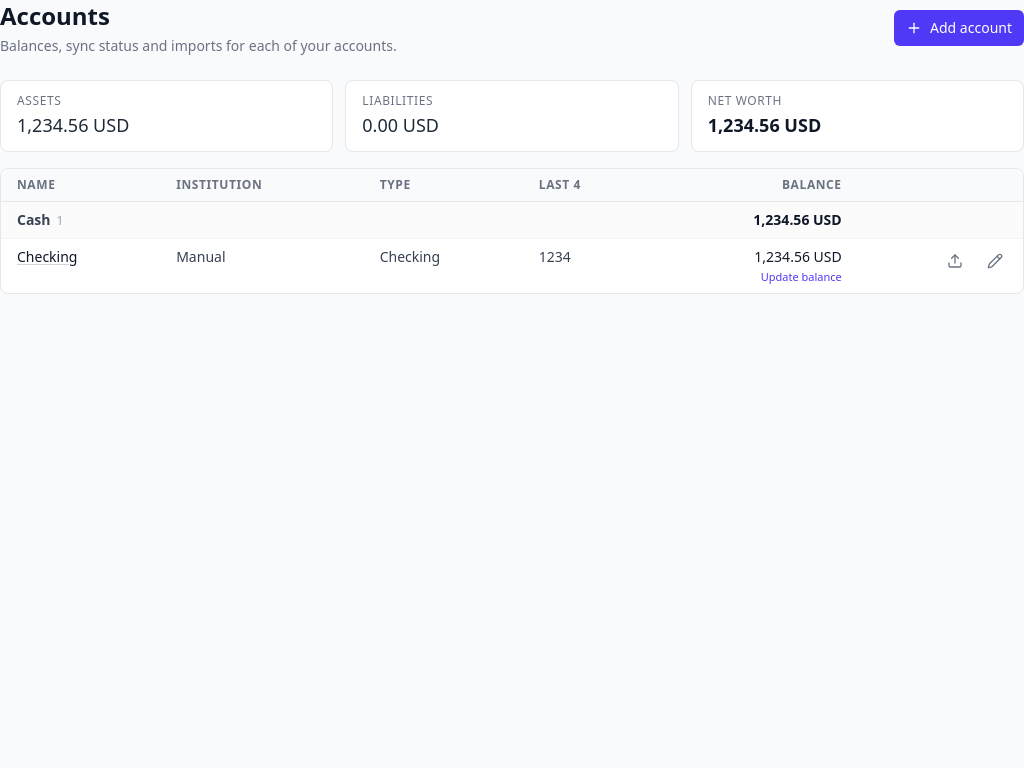
Test: Update balance (#504) › prefills the balance, validates, saves and explains the adjustment
Click the button with aria-label "Update balance for Checking" at coordinates (754, 277), box [667,269,842,285]
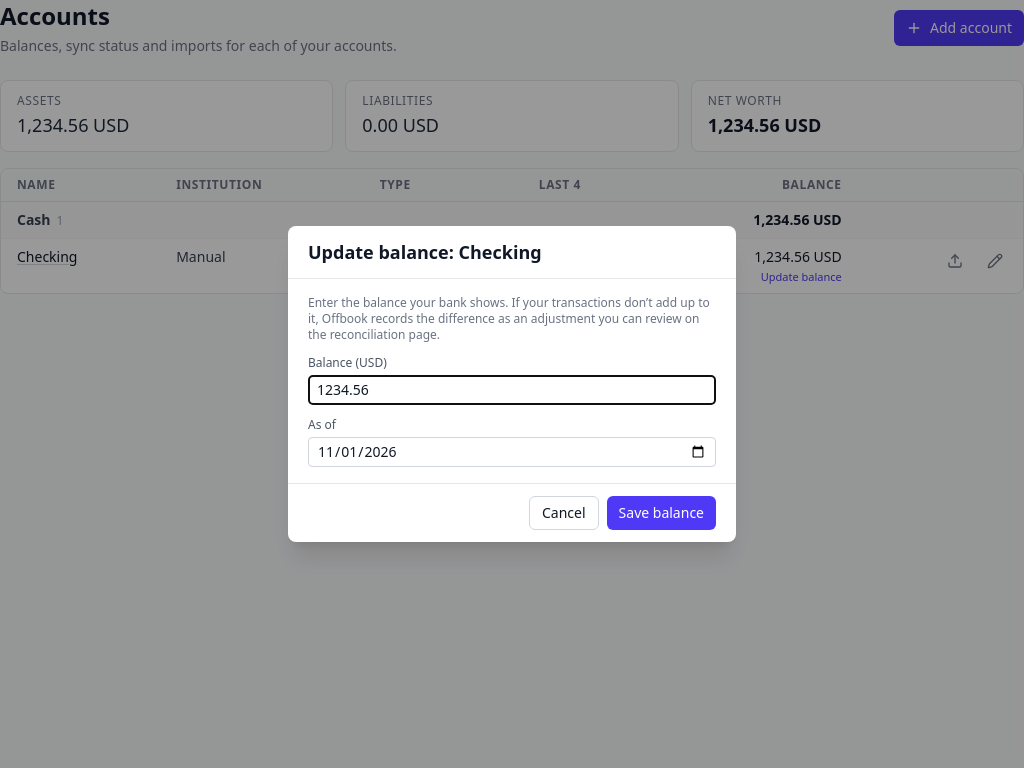
Result: the field labelled "Balance (USD)" holds "1234.56"
Replace the text in the field labelled "Balance (USD)" with "abc" at coordinates (512, 390), box [308,375,716,405]
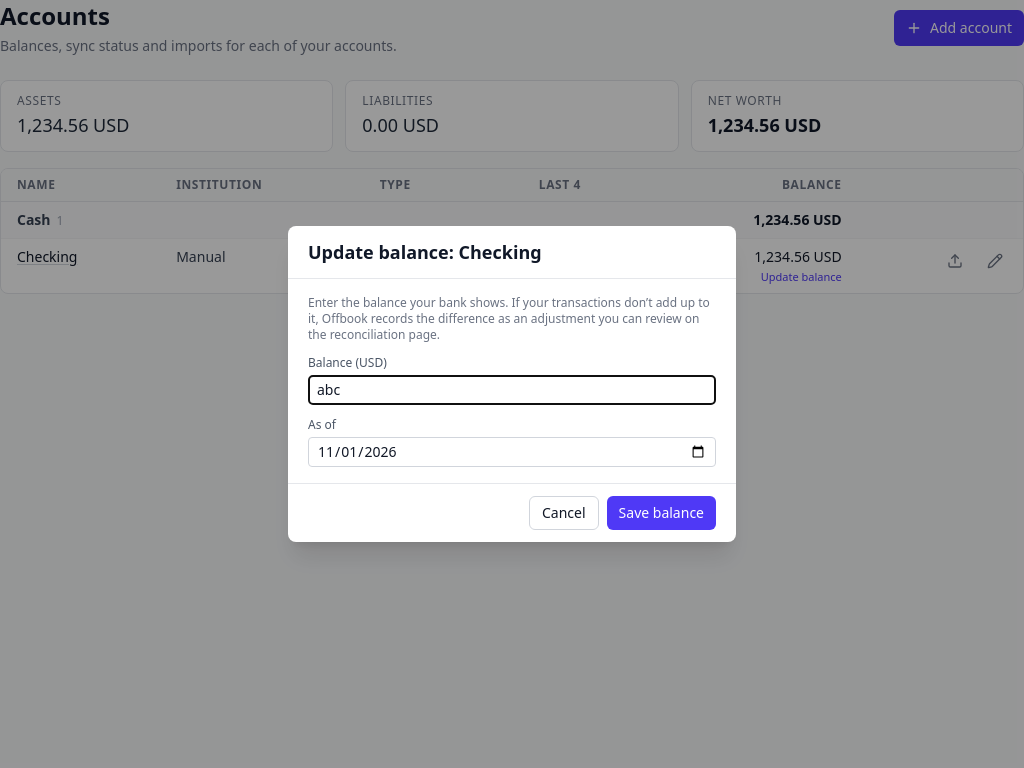
Click the button "Save balance" at coordinates (661, 513), box [607,496,716,530]
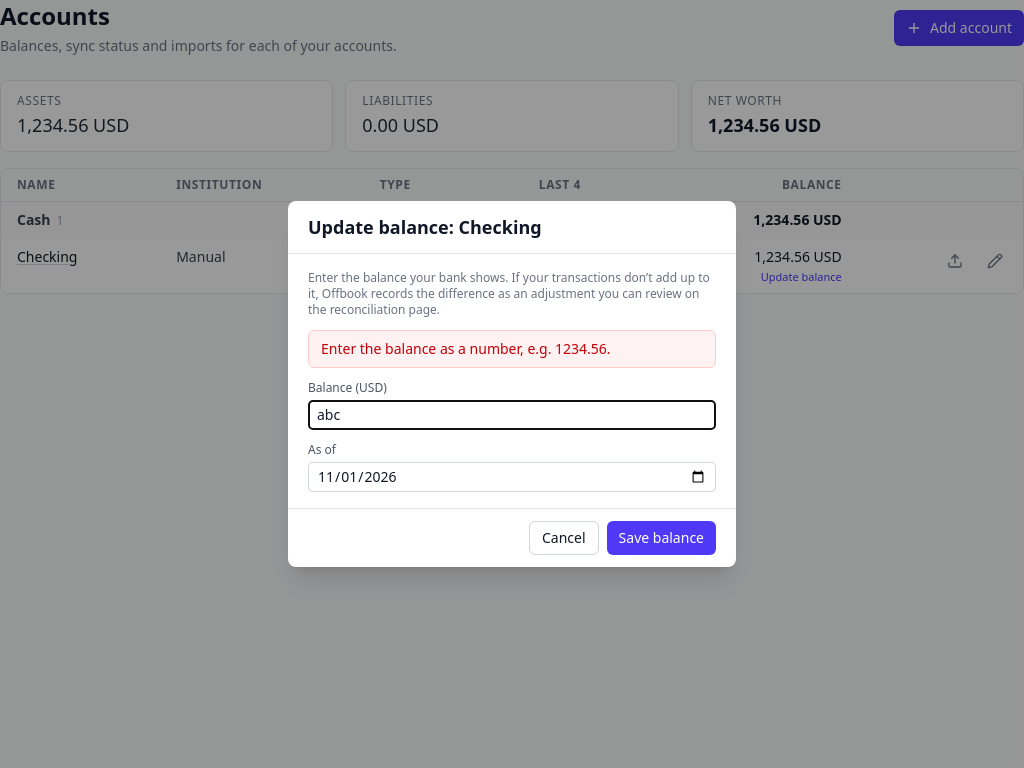
Result: the message shows "Enter the balance as a number" at [321,339,611,358]
Replace the text in the field labelled "Balance (USD)" with "1,300.00" at coordinates (512, 415), box [308,400,716,430]
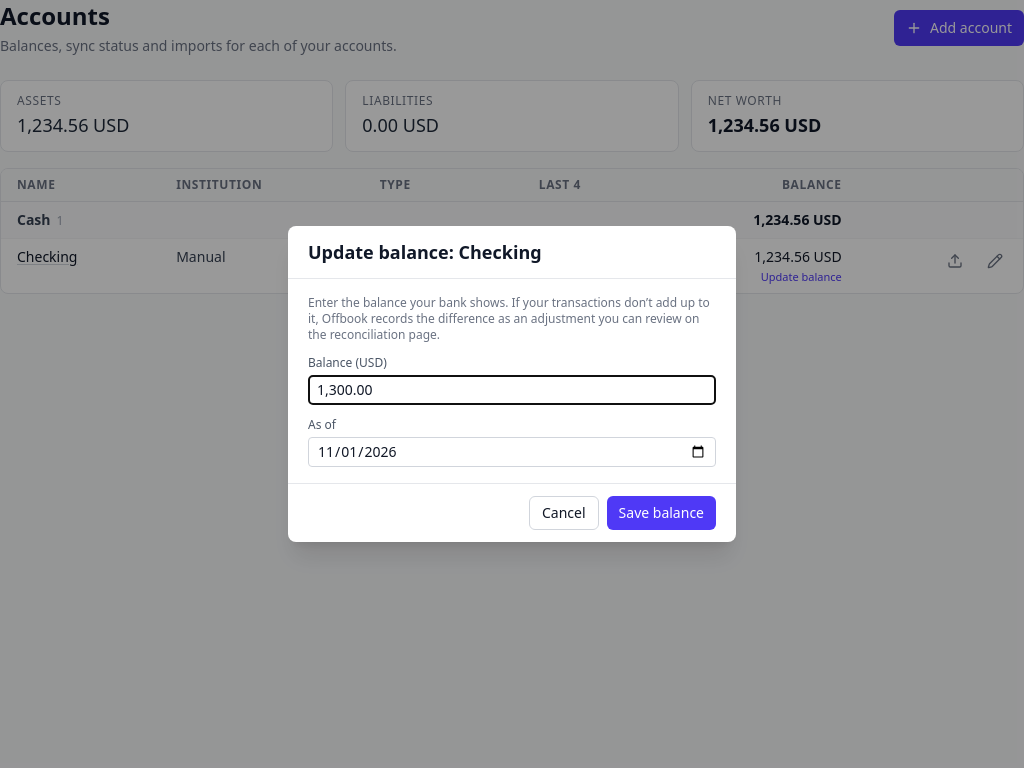
Result: the message "Enter the balance as a number, e.g. 1234.56." is gone
Click the button "Save balance" at coordinates (661, 513), box [607,496,716,530]
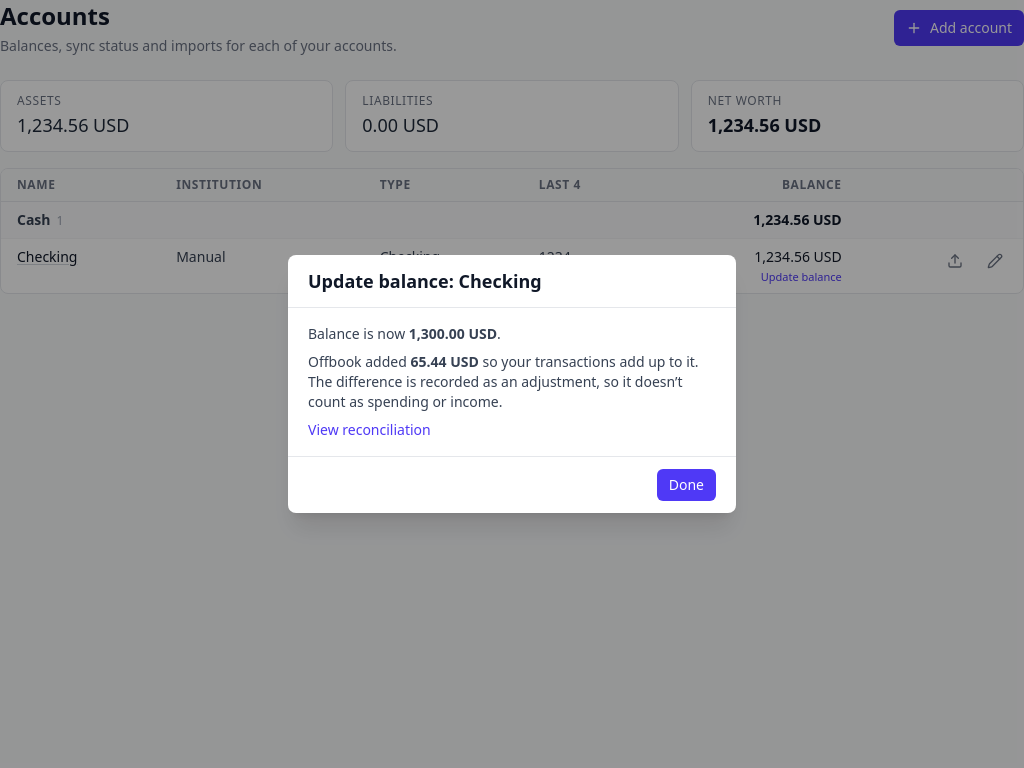
Result: the message shows "1,300.00" at [409,324,497,343]
Result: the message shows "Offbook added 65.44 USD so your transactions add up to it." at [288,308,736,456]
Result: the message shows "The difference is recorded as an adjustment" at [308,372,683,411]
